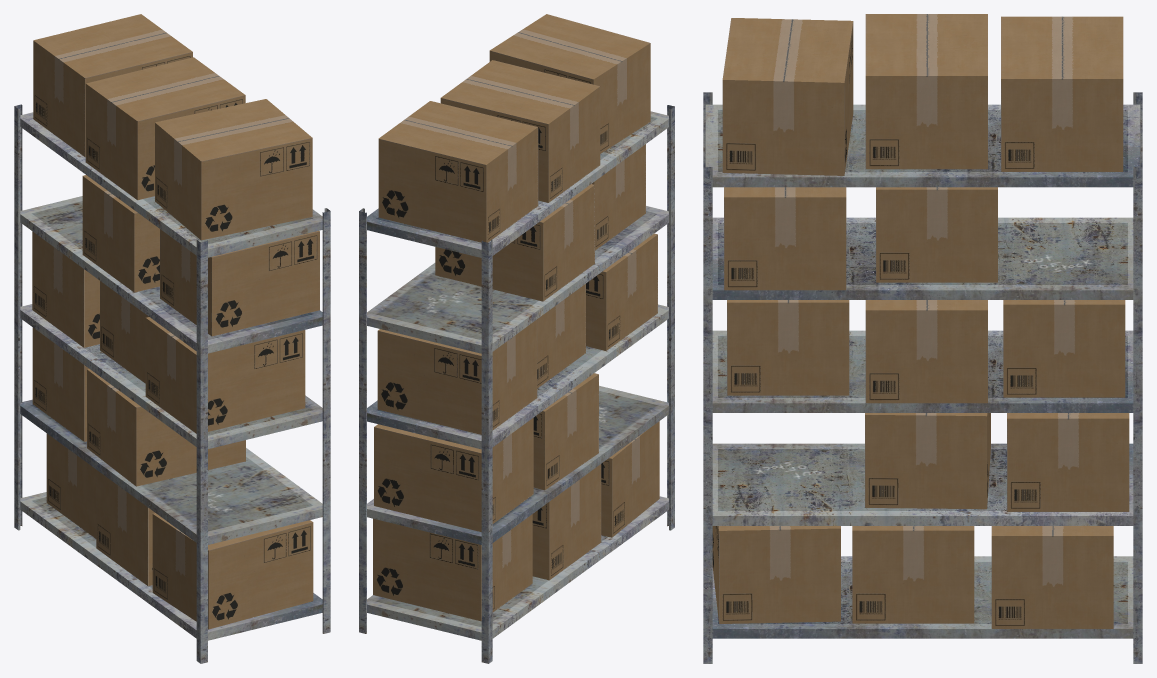
The model's file is Rack_withboxes.fbx.
The picture shows the model from 3 angles, left to right: view 1: azimuth 30°, elevation 25°; view 2: azimuth 150°, elevation 25°; view 3: azimuth 270°, elevation 25°; orthographic projection. The views are drawn at different scales.
Visible parts, largest first — view 1: group_1, group_21, group_14, group_11, group_12, group_18, group_17; view 2: group_1, group_21, group_14, group_11, group_12, group_17, group_18; view 3: group_1, group_21, group_11, group_14, group_12, group_18, group_17.
Part boxes in pixels (x1,y1,x2,y2): group_1: (14, 104, 330, 663); group_21: (33, 14, 312, 240); group_14: (32, 231, 305, 433); group_11: (46, 433, 313, 629); group_12: (32, 327, 245, 486); group_18: (160, 229, 319, 336); group_17: (82, 175, 159, 292); group_1: (359, 105, 674, 663); group_21: (378, 14, 650, 242); group_14: (377, 233, 657, 434); group_11: (373, 421, 659, 621); group_12: (374, 373, 598, 531); group_17: (435, 184, 594, 301); group_18: (592, 144, 645, 250); group_1: (703, 92, 1142, 663); group_21: (722, 14, 1123, 175); group_11: (712, 526, 1113, 628); group_14: (727, 300, 1125, 403); group_12: (865, 413, 1129, 511); group_18: (724, 187, 846, 290); group_17: (876, 187, 997, 282).
Size of the model in its own units: 93.66 by 338 by 233.
3 materials, 3 textured.
